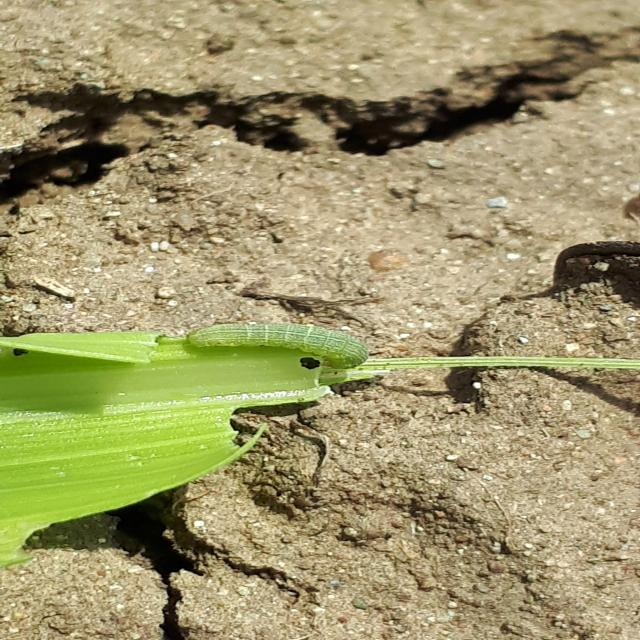armyworm: (186, 322, 372, 372)
